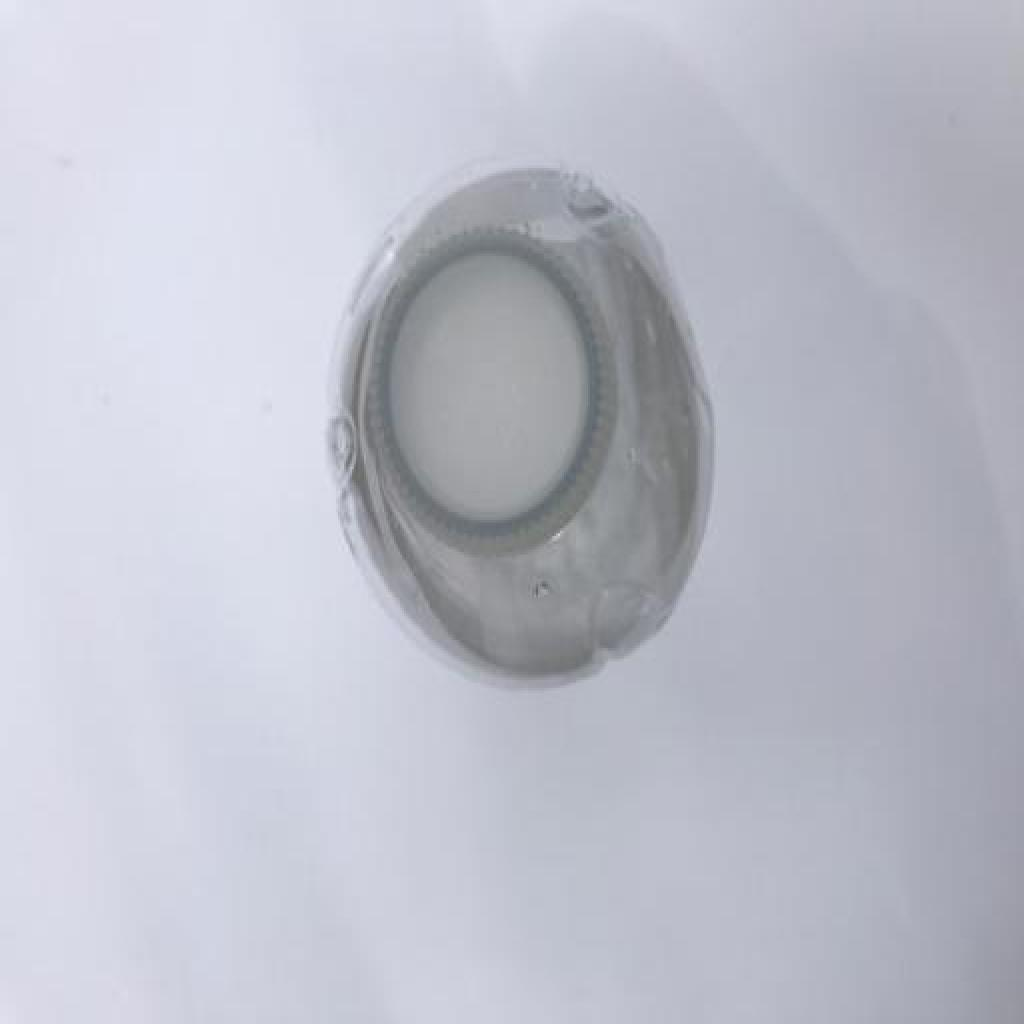plastic: (288, 152, 755, 697)
